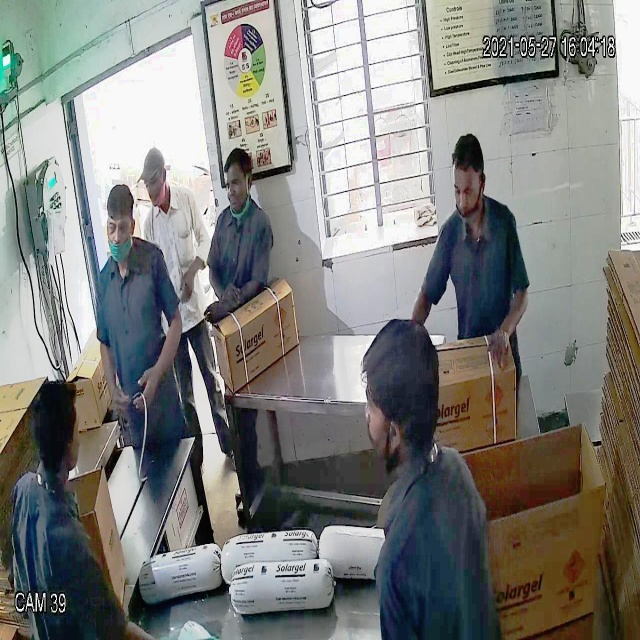Sin_gafas: (446, 176, 489, 211), (102, 213, 139, 244)
